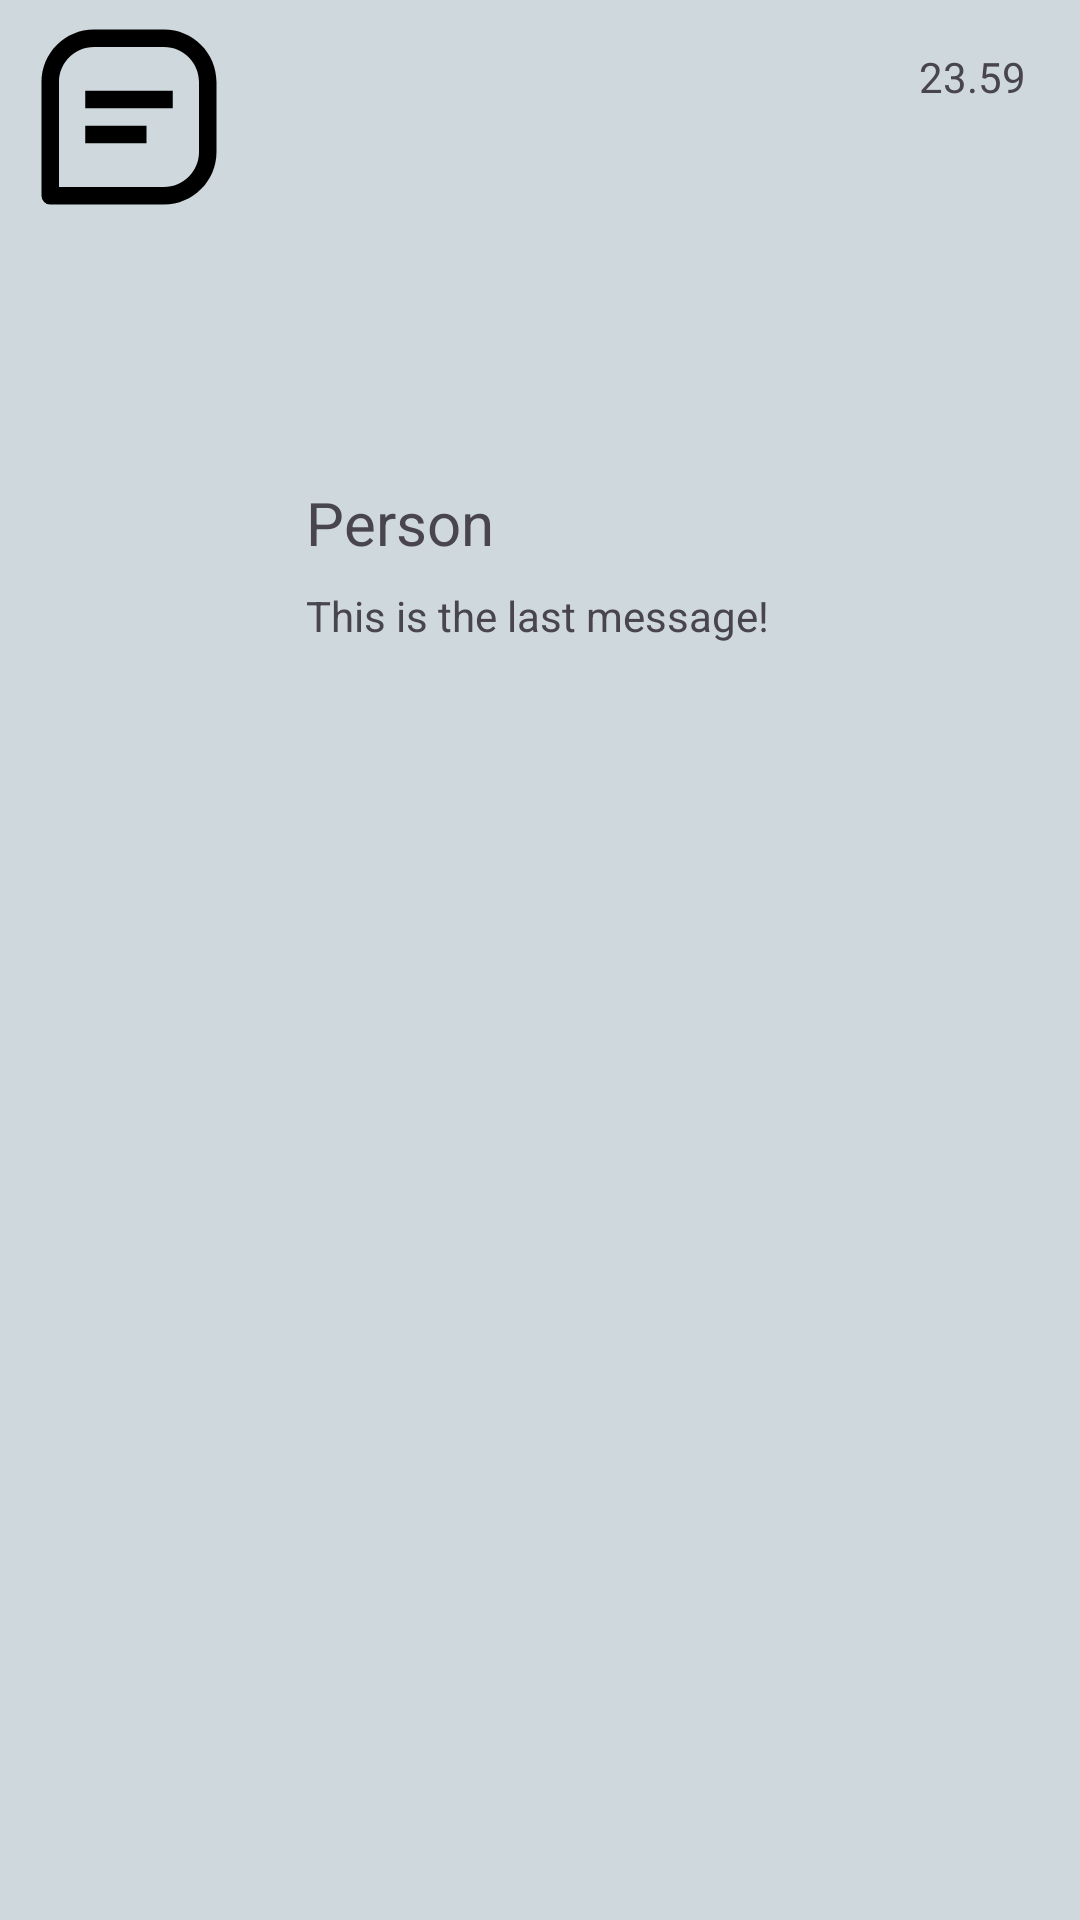

Named icons in this screenshot (1080*1920) and their bounding boxes, {"left": x1, "top": y1, "right": x2, "bottom": y2}:
imgchats: {"left": 41, "top": 29, "right": 217, "bottom": 205}
